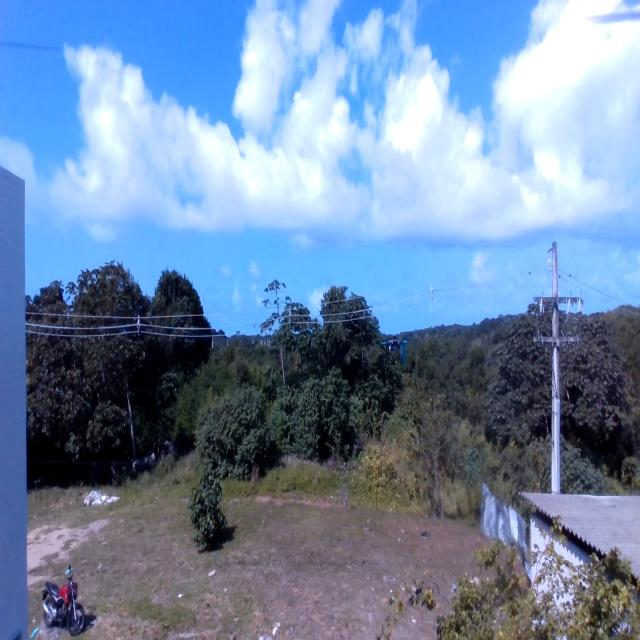-uav-: (382, 327, 408, 375)
